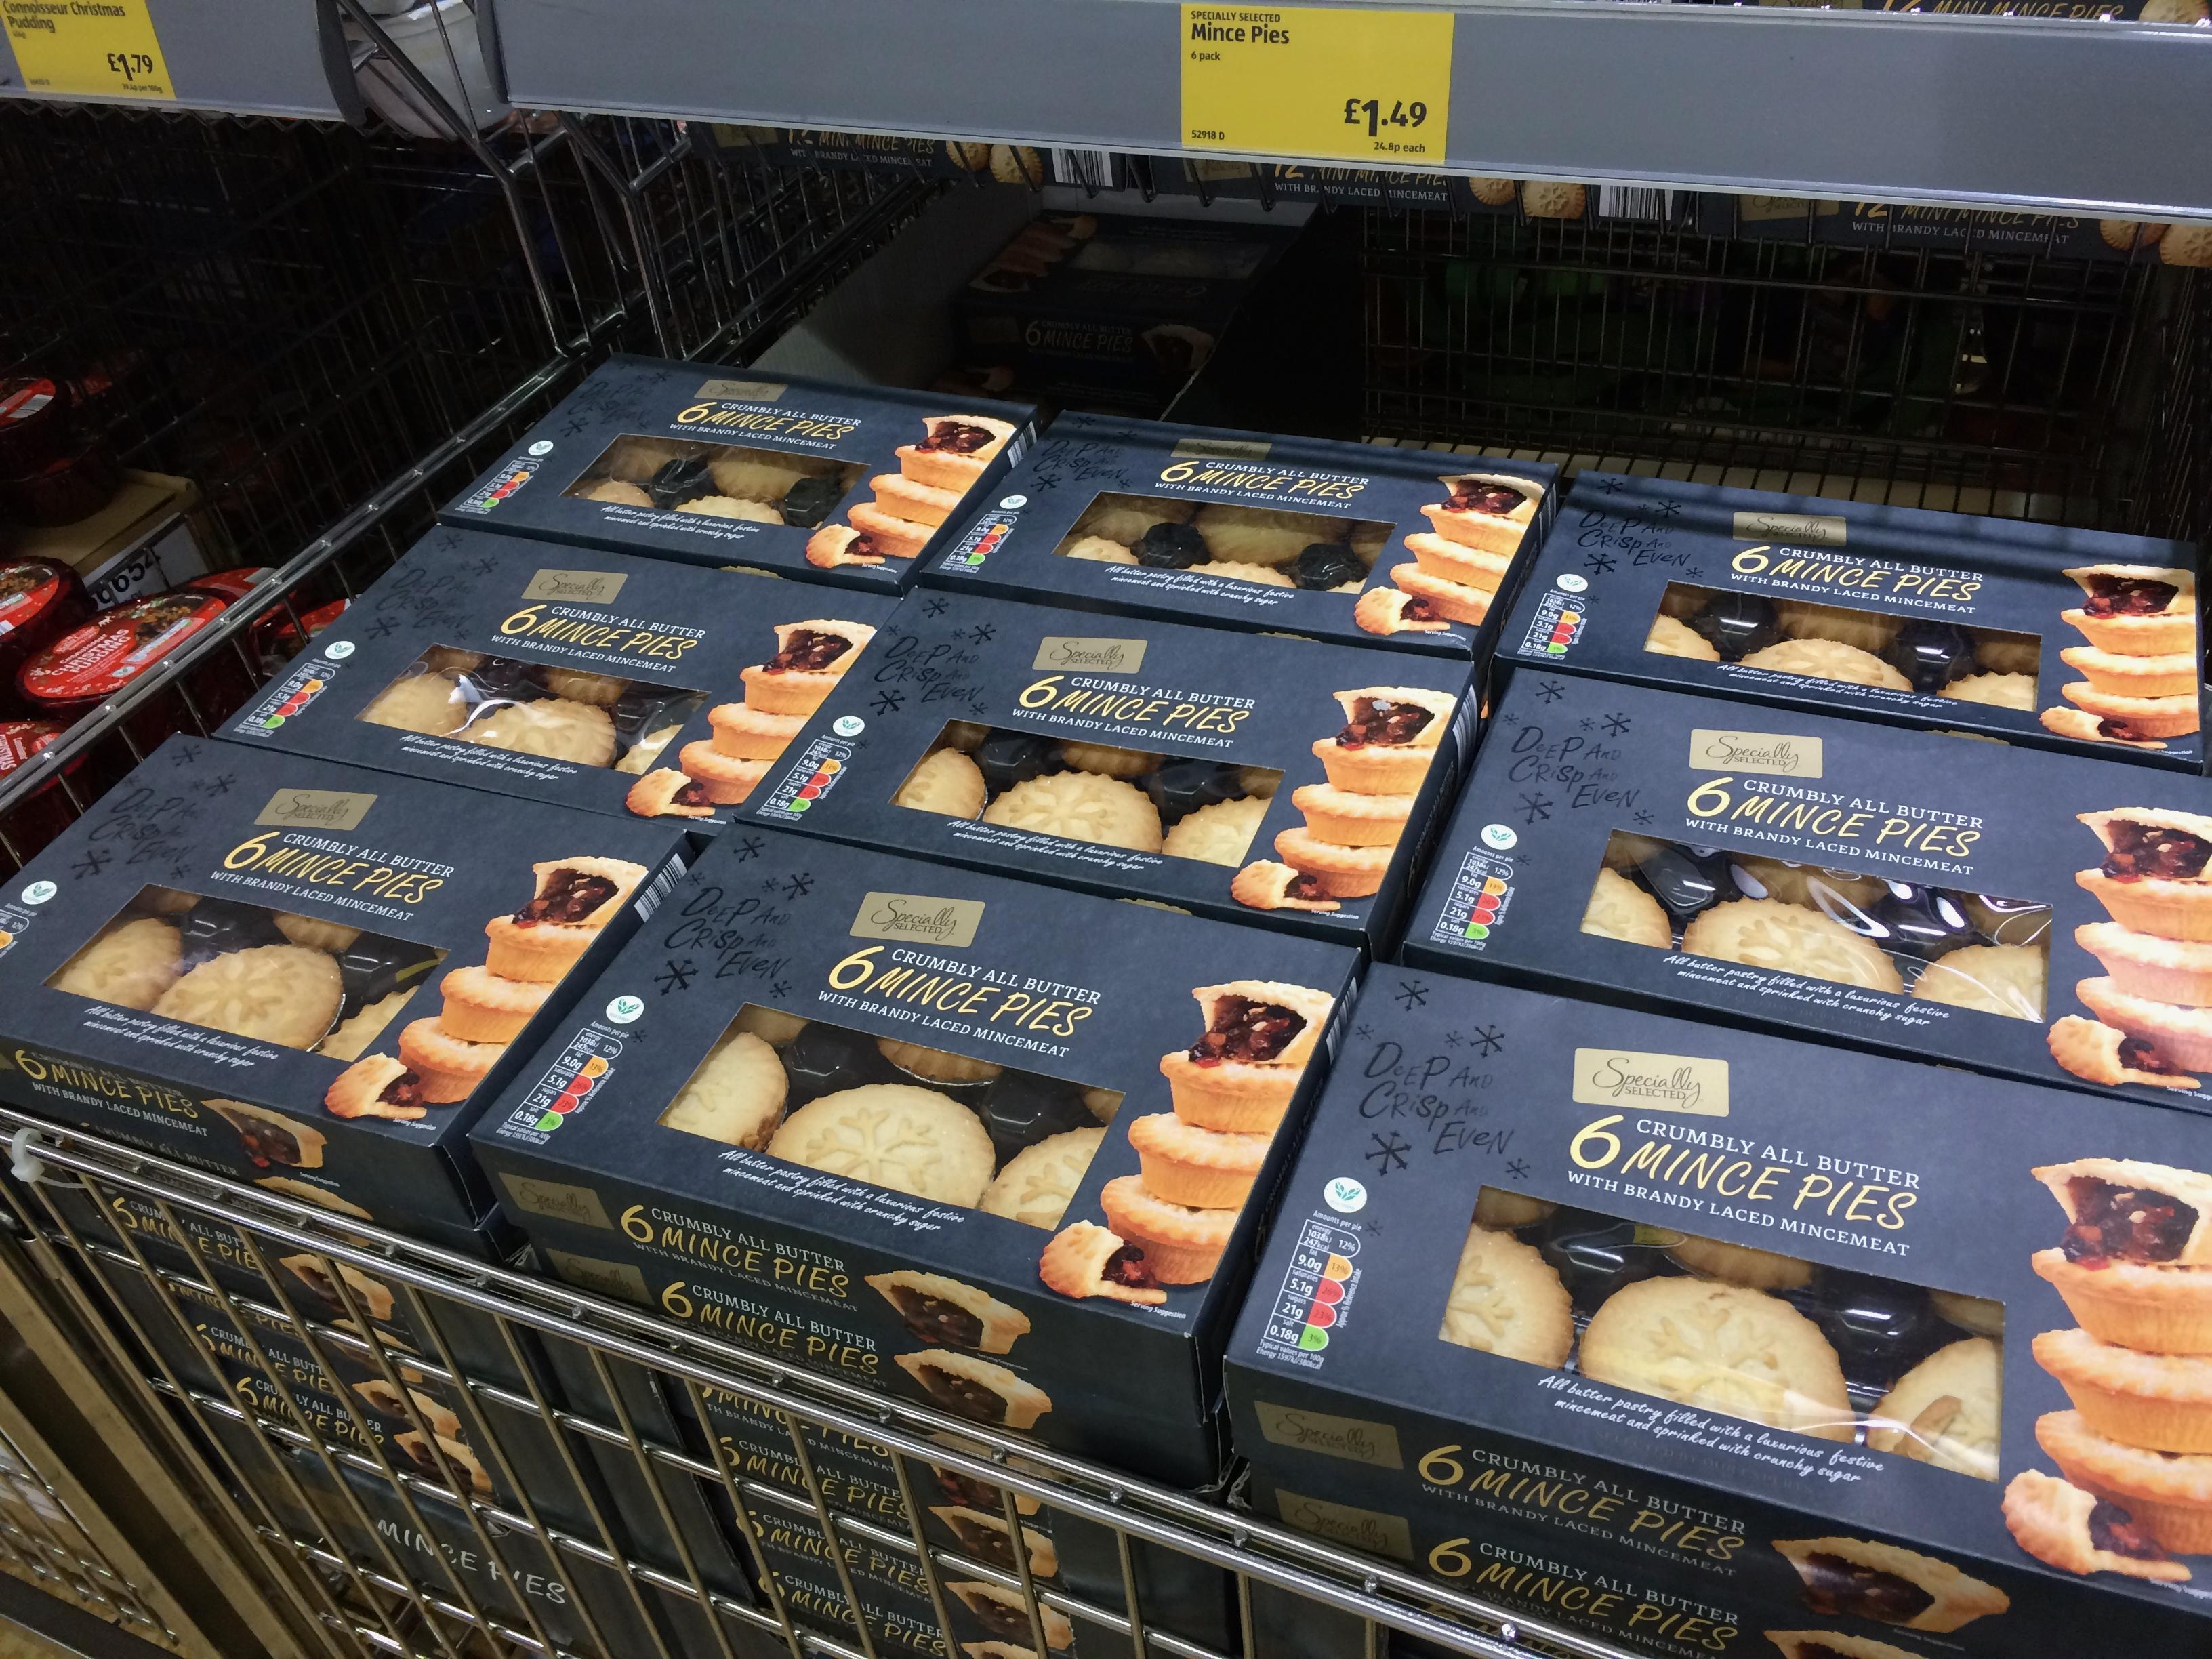pie: (1580, 1277, 1855, 1441), (766, 1084, 995, 1208), (2036, 1412, 2212, 1554), (2031, 1229, 2212, 1356), (1775, 1537, 2008, 1633), (2033, 1330, 2212, 1453), (1681, 899, 1904, 993), (2003, 1471, 2191, 1581), (486, 856, 646, 983), (150, 945, 341, 1047), (1867, 1337, 2001, 1481), (2033, 1159, 2212, 1265), (1439, 1225, 1573, 1366), (2078, 809, 2212, 941), (658, 1028, 787, 1150), (1313, 687, 1454, 796), (1101, 1176, 1238, 1284), (982, 772, 1163, 852), (866, 1269, 1029, 1354), (1184, 979, 1332, 1073), (1130, 1114, 1271, 1209), (742, 619, 873, 716), (2074, 978, 2212, 1070), (977, 1129, 1103, 1230), (895, 1349, 1050, 1429), (2062, 563, 2196, 655), (1421, 472, 1541, 575), (51, 918, 179, 1011), (2074, 922, 2212, 1007), (2047, 1016, 2202, 1091), (460, 699, 615, 767), (1038, 1222, 1165, 1304), (1912, 945, 2047, 1018), (397, 1018, 507, 1105), (895, 415, 1015, 491), (1733, 856, 1883, 917), (1742, 636, 1911, 690), (1273, 826, 1395, 897), (439, 967, 550, 1042), (279, 1253, 395, 1324), (1193, 505, 1332, 565), (2060, 680, 2198, 739), (1667, 1236, 1811, 1291), (207, 1100, 324, 1168), (1292, 784, 1413, 849), (1580, 866, 1674, 948), (1162, 796, 1268, 866), (357, 673, 474, 735), (2059, 647, 2198, 699), (317, 986, 413, 1061), (709, 448, 834, 502), (892, 748, 986, 819), (1777, 601, 1900, 655), (946, 1581, 1033, 1656), (392, 1431, 493, 1495), (1073, 495, 1197, 547), (326, 1056, 425, 1121), (1393, 563, 1494, 626), (352, 1378, 462, 1436), (1406, 532, 1510, 591), (678, 741, 773, 805), (928, 1462, 1038, 1516), (930, 1506, 1017, 1574), (2038, 706, 2167, 749), (876, 1040, 1000, 1086), (1231, 861, 1341, 911), (711, 702, 803, 760), (846, 502, 935, 559), (254, 1178, 373, 1220), (869, 474, 961, 526), (604, 436, 702, 484), (1956, 896, 2050, 945), (625, 769, 716, 817), (1763, 1631, 1919, 1659), (1353, 589, 1449, 634), (1928, 1290, 2005, 1338), (1061, 741, 1158, 779), (273, 913, 361, 955), (1472, 1187, 1557, 1229), (1939, 674, 2034, 711), (805, 525, 885, 568), (540, 667, 627, 708), (1644, 617, 1721, 662), (730, 1004, 808, 1047), (615, 725, 679, 775), (676, 495, 784, 525), (1186, 559, 1296, 587), (1973, 634, 2040, 676), (1521, 179, 1585, 220), (1055, 535, 1137, 565), (580, 479, 653, 509), (418, 647, 489, 674)
